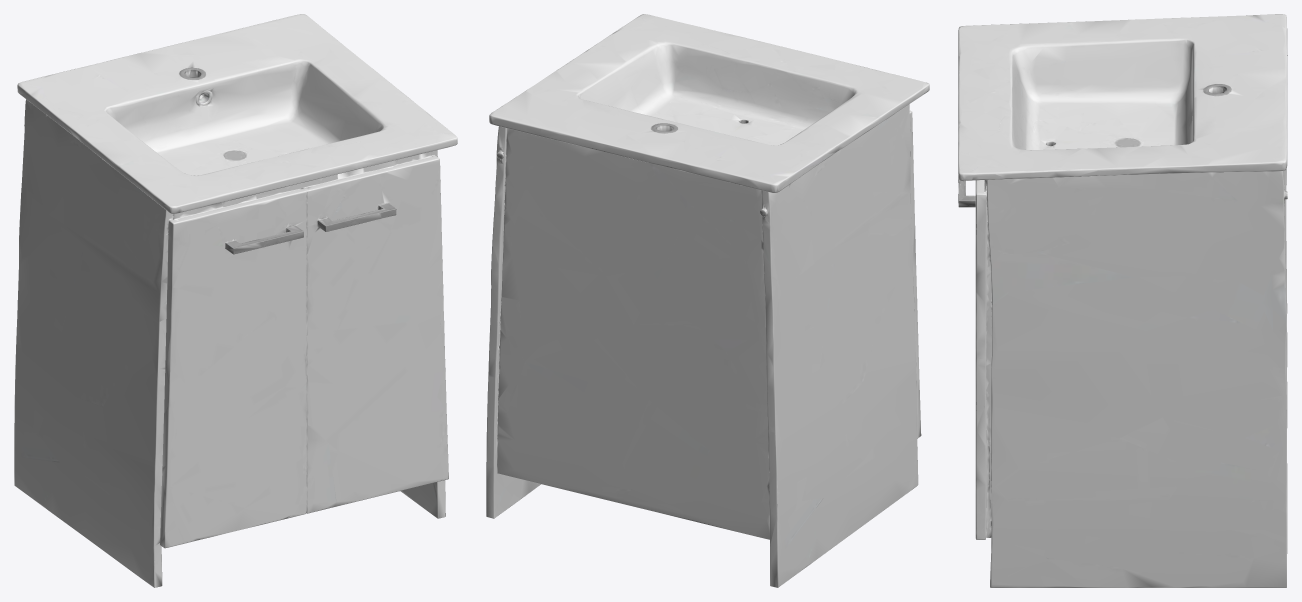
Rendered from waschbecken-01.glb.
The picture shows the model from 3 angles, left to right: view 1: azimuth 30°, elevation 25°; view 2: azimuth 150°, elevation 25°; view 3: azimuth 270°, elevation 25°; orthographic projection. The views are drawn at different scales.
Bounding box in the file's own units: 1.45 × 1.9 × 1.34.
Materials: 1 (1 with a texture image).
